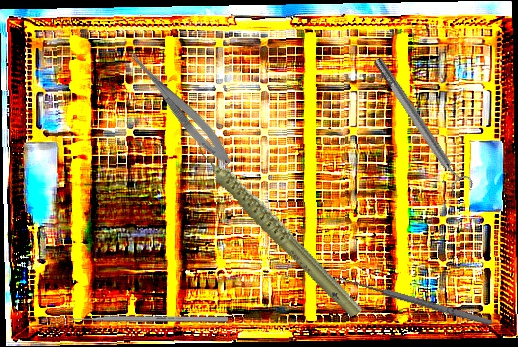Fixation Ring: (367, 52, 476, 199)
Handpiece: (192, 111, 365, 343)
Hook Surgical: (331, 272, 494, 334)
Micro Scissor: (118, 44, 238, 171)
Pusher: (61, 316, 228, 322)
